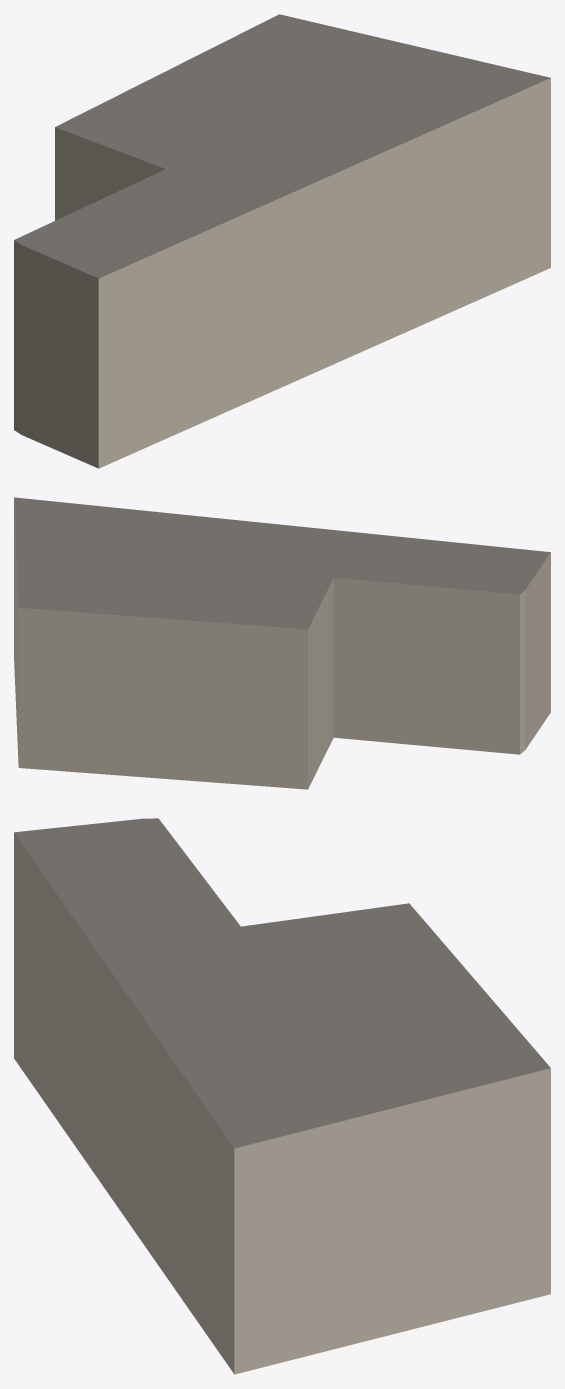
3 renders of one model, top to bottom at view 1: azimuth 30°, elevation 25°; view 2: azimuth 150°, elevation 25°; view 3: azimuth 270°, elevation 25°, orthographic. The views are drawn at different scales.
Parts seen in each view (by area): view 1: HP-w1198723275; view 2: HP-w1198723275; view 3: HP-w1198723275.
Boxes of the visible parts, <box> form: HP-w1198723275: <box>14,14,550,468</box>; HP-w1198723275: <box>14,497,550,789</box>; HP-w1198723275: <box>14,818,550,1374</box>.
Size of the model in its own units: 56.38 by 18 by 38.75.
